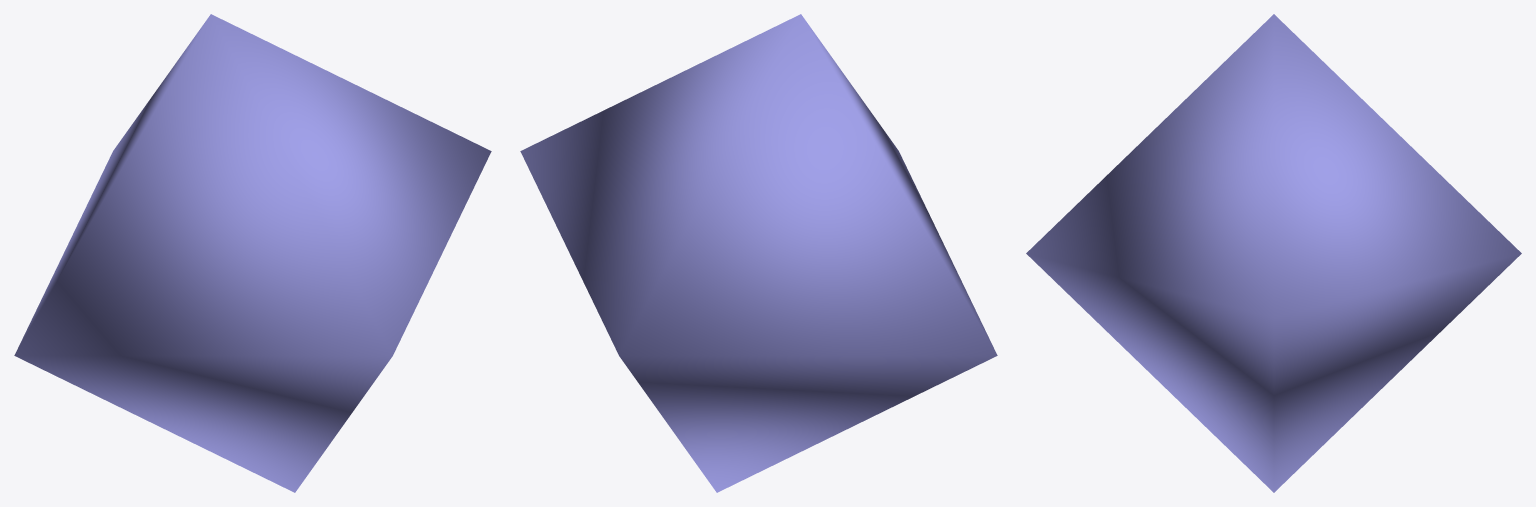
The model's file is animin2.dae.
3 renders of one model, left to right at view 1: azimuth 30°, elevation 25°; view 2: azimuth 150°, elevation 25°; view 3: azimuth 270°, elevation 25°, orthographic. The views are drawn at different scales.
Parts seen in each view (by area): view 1: tarjeta_MAIN_01; view 2: tarjeta_MAIN_01; view 3: tarjeta_MAIN_01.
Boxes of the visible parts, box(x1,y1,x2,y2) form: tarjeta_MAIN_01: box(14, 14, 491, 492); tarjeta_MAIN_01: box(520, 14, 997, 492); tarjeta_MAIN_01: box(1026, 14, 1521, 492).
Bounding box in the file's own units: 0.0756 × 0.0767 × 0.0756.
